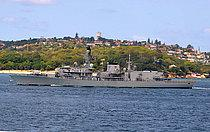MIL_Ship: (7, 45, 196, 89)
